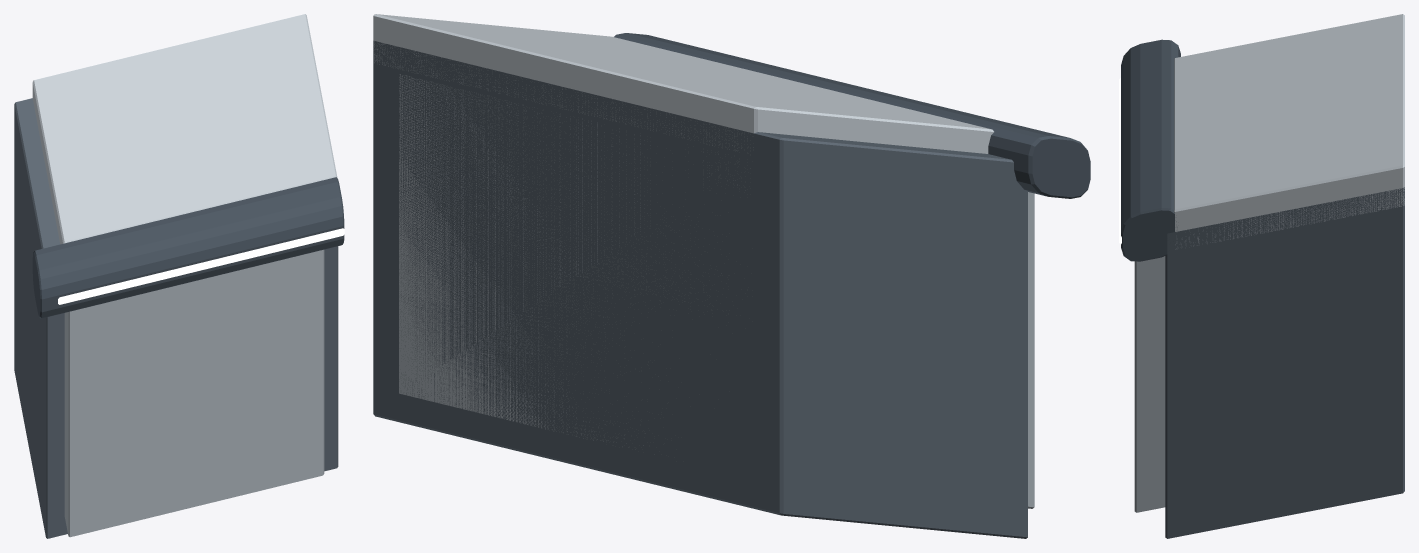
The model's file is Terrain_TopRun1L.gltf.
The picture shows the model from 3 angles, left to right: view 1: azimuth 30°, elevation 25°; view 2: azimuth 150°, elevation 25°; view 3: azimuth 270°, elevation 25°; orthographic projection. The views are drawn at different scales.
Parts seen in each view (by area): view 1: Terrain_TopRun1L_baked; view 2: Terrain_TopRun1L_baked; view 3: Terrain_TopRun1L_baked.
Boxes of the visible parts, x1,y1,x2,y2 form: Terrain_TopRun1L_baked: (14,14,344,538); Terrain_TopRun1L_baked: (373,14,1090,538); Terrain_TopRun1L_baked: (1119,14,1404,538).
Size of the model in its own units: 1.33 by 1.18 by 0.74.
